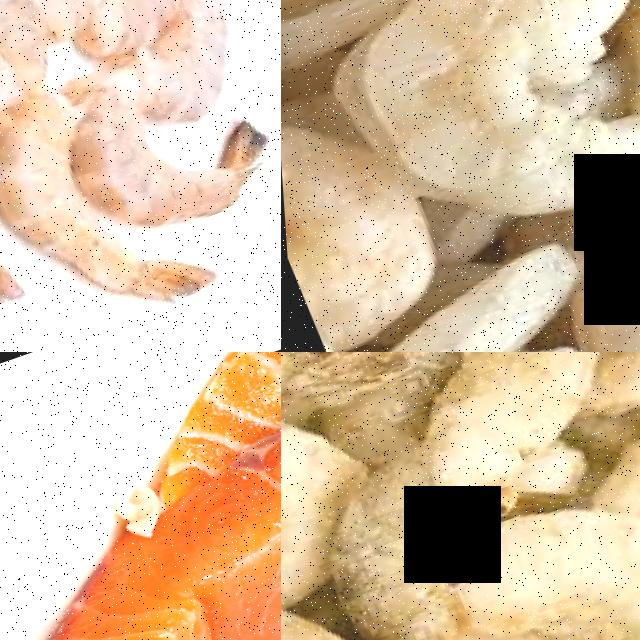salmon: (0, 352, 281, 640)
shrimp: (332, 0, 640, 261), (301, 464, 547, 640), (281, 101, 453, 351), (80, 111, 281, 254), (0, 108, 125, 334), (402, 352, 640, 459), (320, 273, 628, 352), (132, 0, 275, 99), (0, 0, 118, 48)
